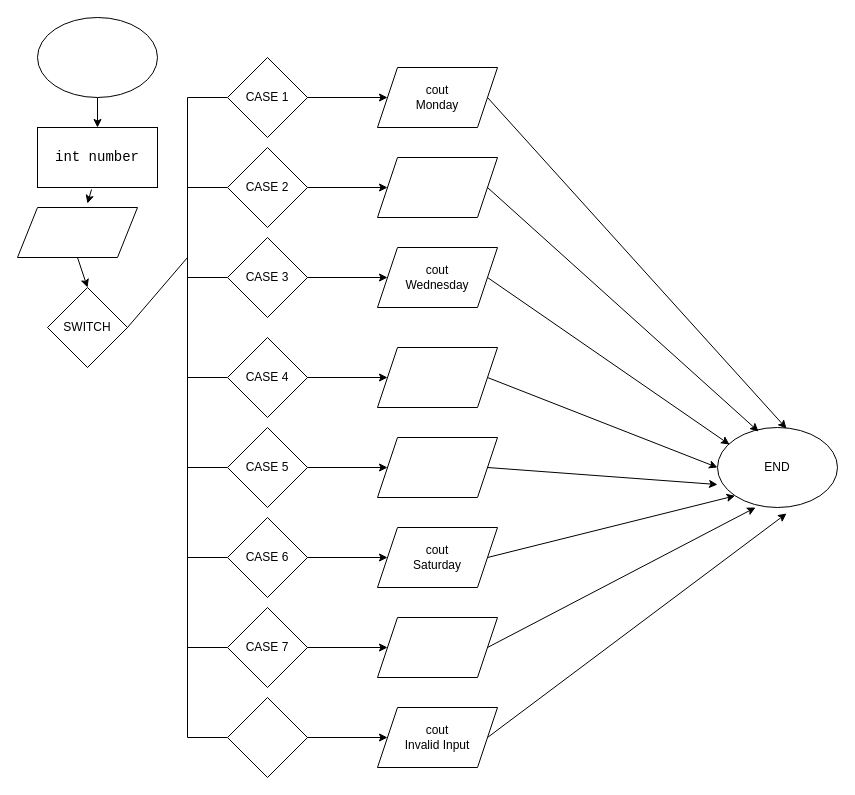
Some shapes in this 855 by 795 pixel diagram are drawn without their labels. Here are the shapes that lost their labels. From the top down, the centre of each, then its label:
the point at 97,57: START
the point at 437,187: cout Tuesday
the point at 77,232: cin int number
the point at 437,377: cout Thursday
the point at 437,467: cout Friday
the point at 437,647: cout Sunday
the point at 267,737: default
